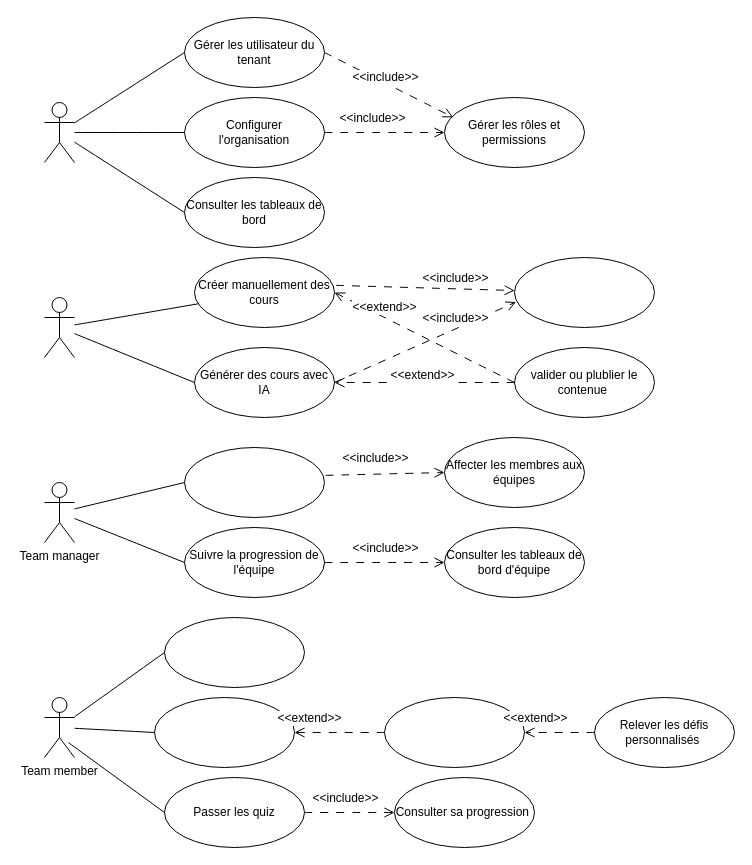
The diagram is 752 pixels wide and 865 high, and some of its shapes have lost their labels. The shapes that lost their labels are listed below. From the top down, each one's box as (x1, y1, x2, y2) in pixels, then its label:
(44, 102, 74, 162): Admin
(514, 256, 654, 328): Gérer les modules et les leçons
(44, 296, 74, 358): Learning Expert
(184, 446, 324, 518): Gérer les équipes
(164, 616, 304, 688): Consulter les cours
(154, 696, 294, 768): Suivre les leçons
(384, 696, 524, 768): Recevoir des recommandation
